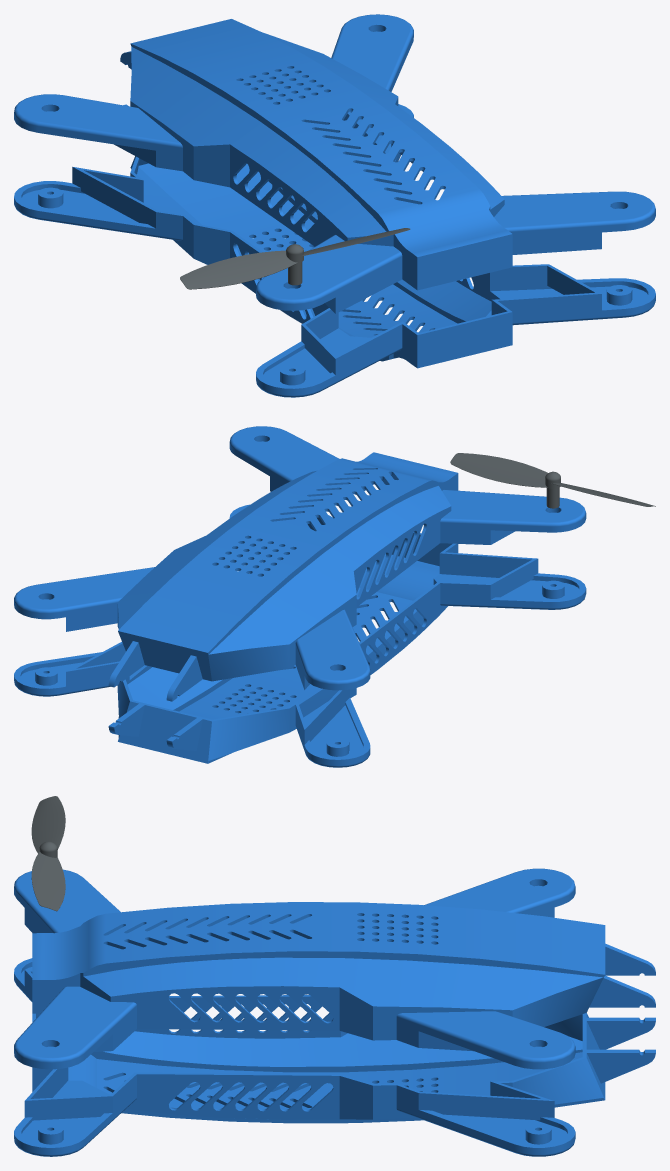
Rendered from Test_001_glb.glb.
3 views of the same model, one above another, from view 1: azimuth 30°, elevation 25°; view 2: azimuth 150°, elevation 25°; view 3: azimuth 270°, elevation 25° (orthographic). The views are drawn at different scales.
Parts seen in each view (by area): view 1: Main_frame_MIR:Solid1, Main_frame:Solid1, Impellar_Blade:Solid1; view 2: Main_frame_MIR:Solid1, Main_frame:Solid1, Impellar_Blade:Solid1; view 3: Main_frame_MIR:Solid1, Main_frame:Solid1, Impellar_Blade:Solid1.
Boxes of the visible parts, bbox=[...] form: Main_frame_MIR:Solid1: bbox=[14, 14, 655, 313]; Main_frame:Solid1: bbox=[14, 104, 655, 397]; Impellar_Blade:Solid1: bbox=[180, 228, 410, 289]; Main_frame_MIR:Solid1: bbox=[14, 426, 586, 701]; Main_frame:Solid1: bbox=[14, 504, 586, 767]; Impellar_Blade:Solid1: bbox=[450, 453, 655, 508]; Main_frame_MIR:Solid1: bbox=[14, 868, 655, 1069]; Main_frame:Solid1: bbox=[14, 958, 655, 1156]; Impellar_Blade:Solid1: bbox=[31, 796, 65, 911].
Bounding box in the file's own units: 0.1479 × 0.0528 × 0.1737.
